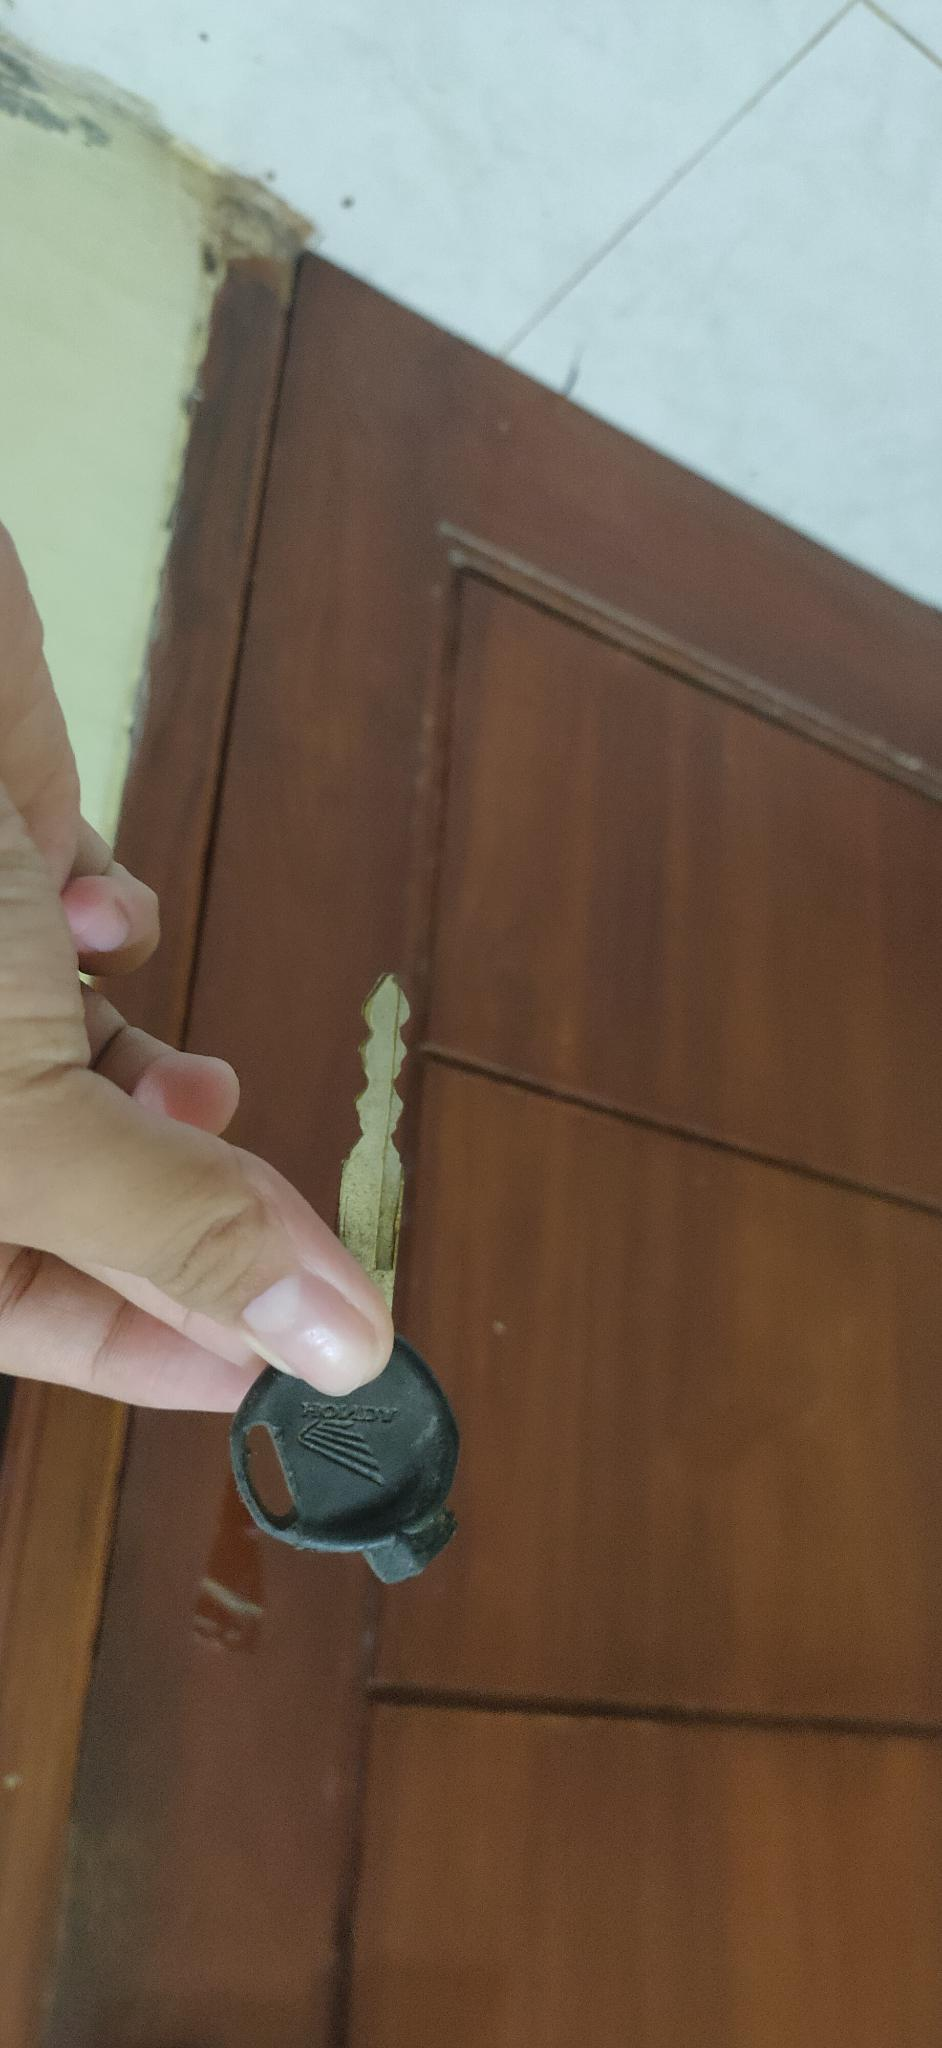keys: (206, 948, 482, 1613)
